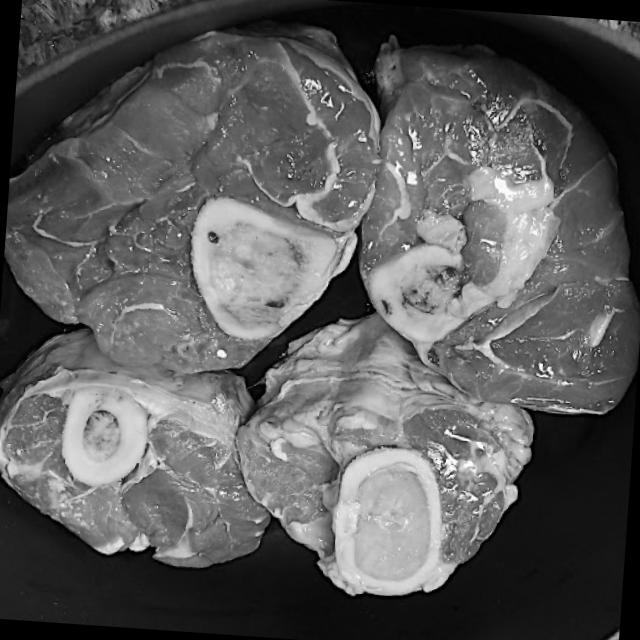ham hock: (0, 25, 379, 374), (350, 44, 640, 417), (234, 319, 522, 606), (0, 325, 274, 569)
